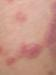plaque psoriasis: (5, 0, 56, 65), (15, 9, 27, 25), (0, 44, 5, 57), (0, 0, 55, 1)
